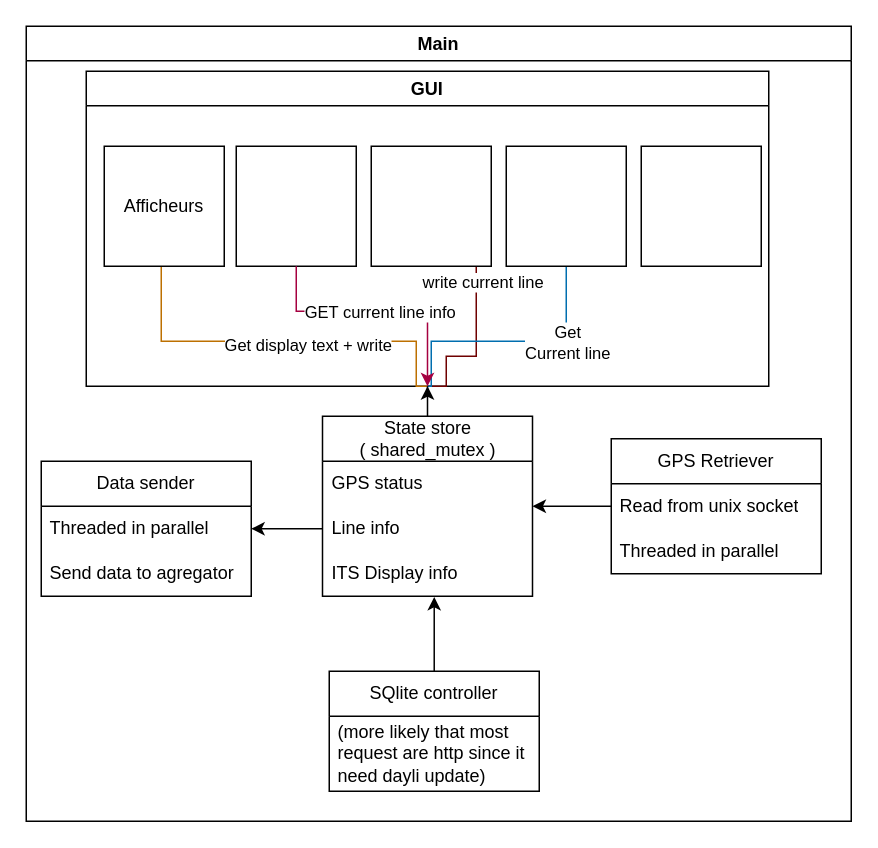
The diagram is 878 pixels wide and 848 high, and some of its shapes have lost their labels. Here are the shapes that lost their labels. From the top down, the centre of each, then its label:
At point 295,205: "Billettique (missing data)".
At point 430,205: "Ordibus (no data)".
At point 565,205: "Pilot. Auto.".
At point 700,205: "Maintenance (no data)".
